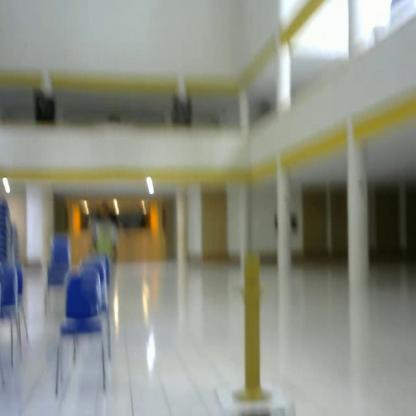pole: (229, 243, 282, 413)
